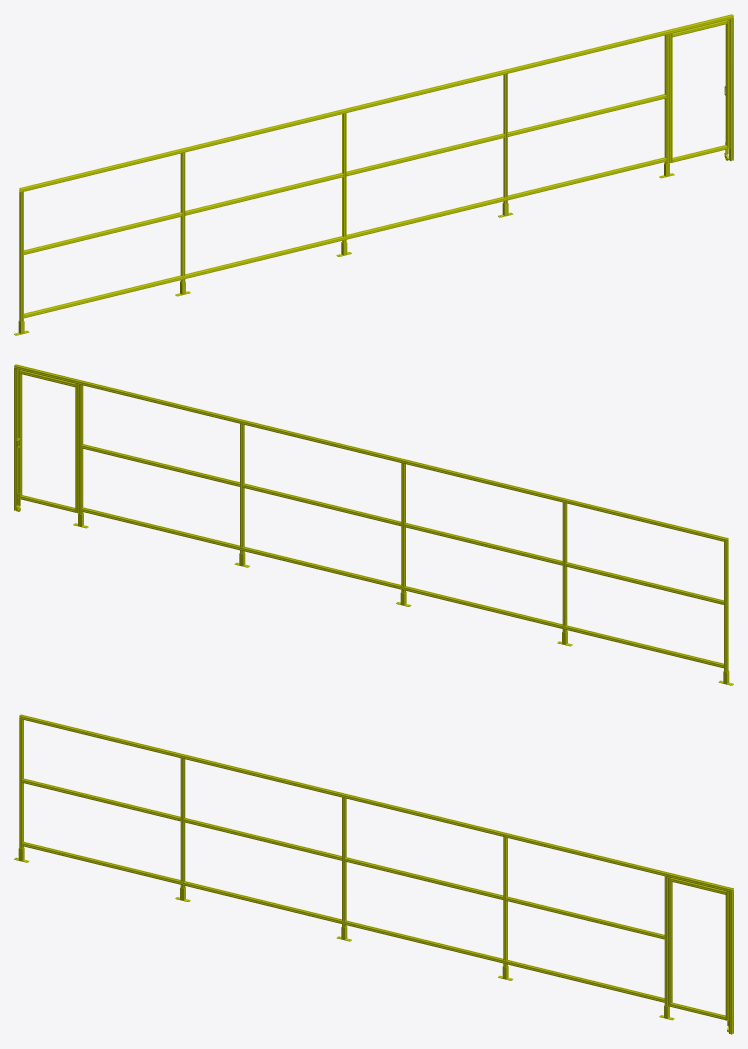
Rendered from fence_structure.dae.
3 views of the same model, one above another, from view 1: azimuth 30°, elevation 25°; view 2: azimuth 150°, elevation 25°; view 3: azimuth 330°, elevation 25° (orthographic).
Visible parts, largest first — view 1: Fence_Structure; view 2: Fence_Structure; view 3: Fence_Structure.
Boxes of the visible parts, x1,y1,x2,y2 form: Fence_Structure: (14, 14, 733, 335); Fence_Structure: (14, 364, 733, 685); Fence_Structure: (14, 714, 733, 1034).
Size of the model in its own units: 8.91 by 0.0822 by 1.72.
